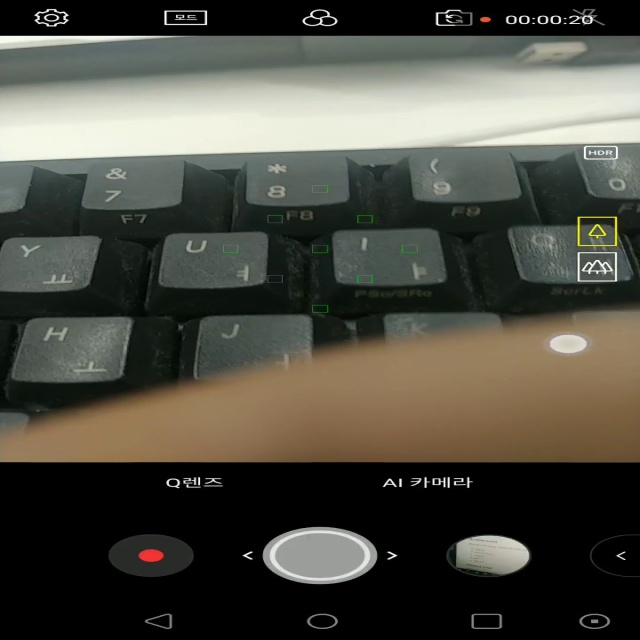Cursor: (546, 334, 591, 356)
